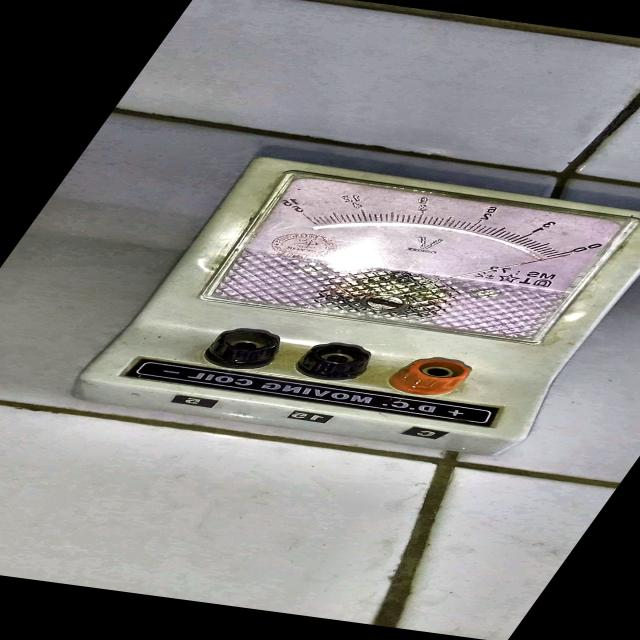Analog Voltmeter: (15, 136, 640, 479)
